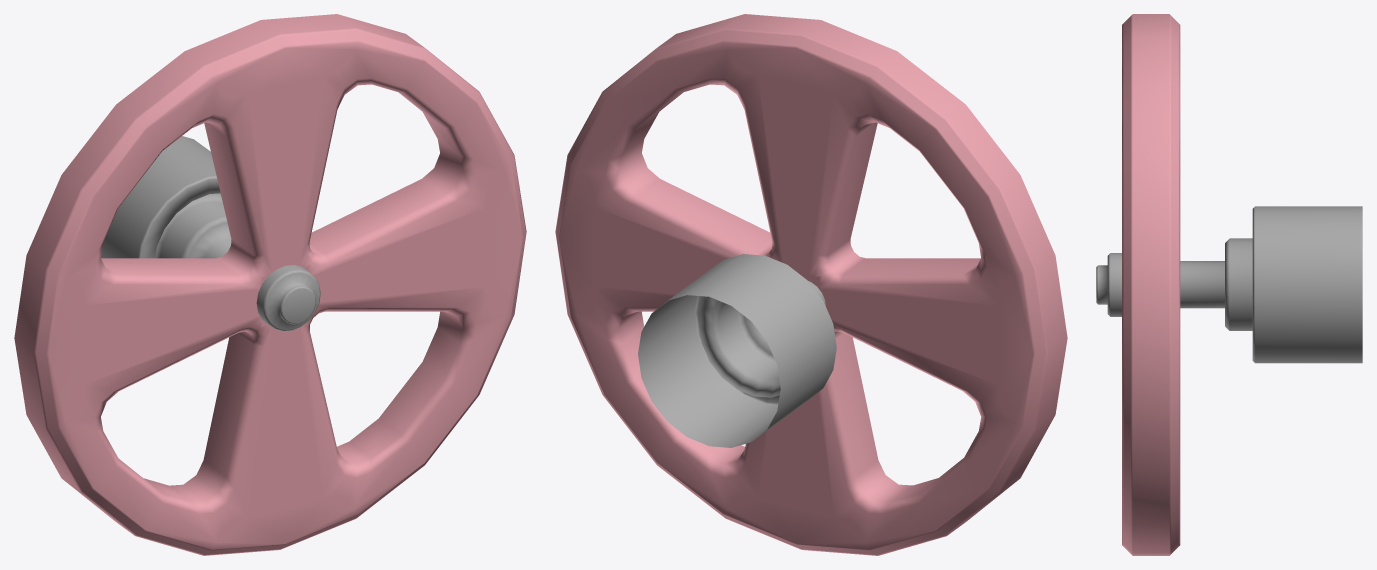
The model's file is ValveAnim_firstpart.fbx.
3 renders of one model, left to right at view 1: azimuth 30°, elevation 25°; view 2: azimuth 150°, elevation 25°; view 3: azimuth 270°, elevation 25°, orthographic. The views are drawn at different scales.
Parts seen in each view (by area): view 1: pCylinder5, pCylinder1; view 2: pCylinder5, pCylinder1; view 3: pCylinder5, pCylinder1.
Part boxes in pixels (x1,y1,x2,y2): pCylinder5: (14,14,526,555); pCylinder1: (101,136,231,258); pCylinder5: (555,14,1067,555); pCylinder1: (638,254,836,447); pCylinder5: (1096,14,1180,555); pCylinder1: (1180,206,1362,363).
Size of the model in its own units: 9.92 by 9.92 by 4.84.
